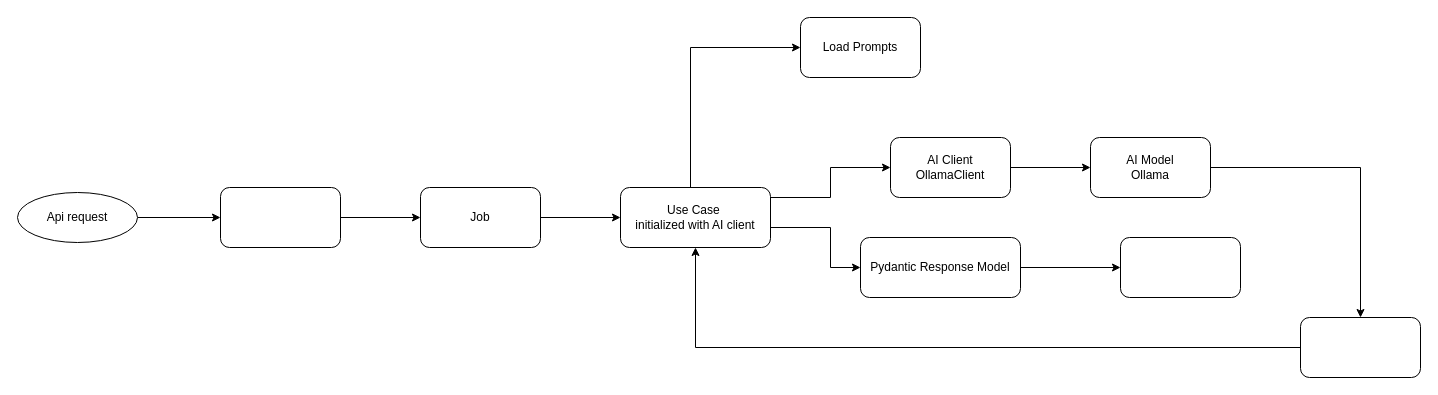
Image size: 1438x395. Some labels were removed from this diagram. The shapes that lost their labels are listed below. From the top down, each one's centre as x and y in pixels, then its label:
At [280,217]: "Api route".
At [1180,267]: "Scenario Result".
At [1360,347]: "Raw Response str".
